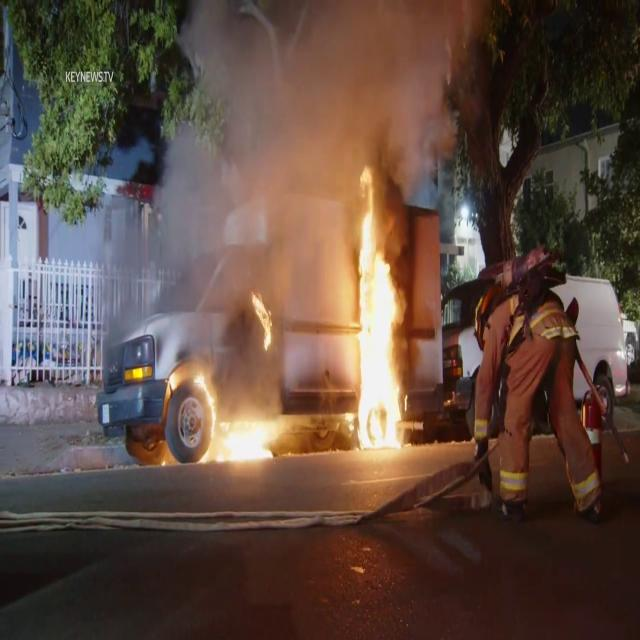Fire: (345, 164, 412, 452), (201, 404, 284, 469), (249, 284, 273, 352)
Smoke: (115, 0, 485, 330)
